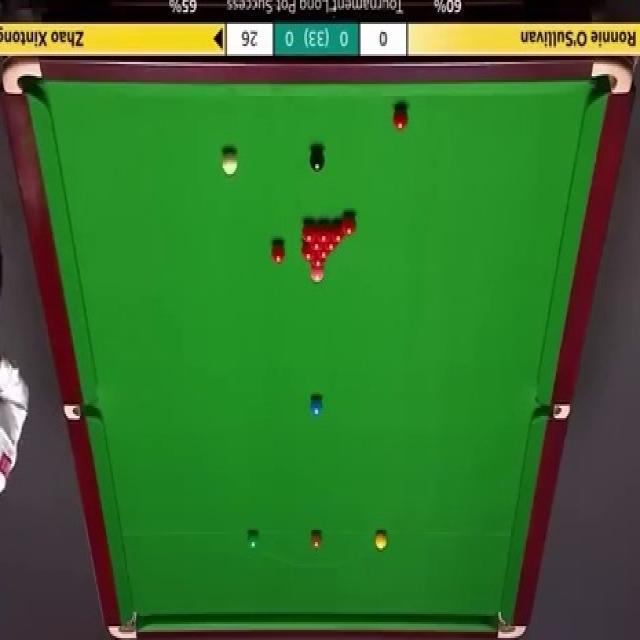black-ball: (308, 150, 326, 172)
blue-ball: (308, 395, 324, 415)
brown-ball: (311, 531, 323, 549)
green-ball: (247, 530, 260, 551)
pink-ball: (309, 264, 326, 284)
red-ball: (269, 240, 286, 266), (392, 104, 408, 131), (301, 221, 317, 245), (341, 212, 356, 235), (315, 219, 329, 242), (330, 221, 344, 243), (302, 242, 316, 263), (310, 254, 325, 267), (310, 239, 322, 252), (324, 240, 337, 251)
white-ball: (222, 152, 240, 178)
yellow-ball: (375, 530, 389, 551)
